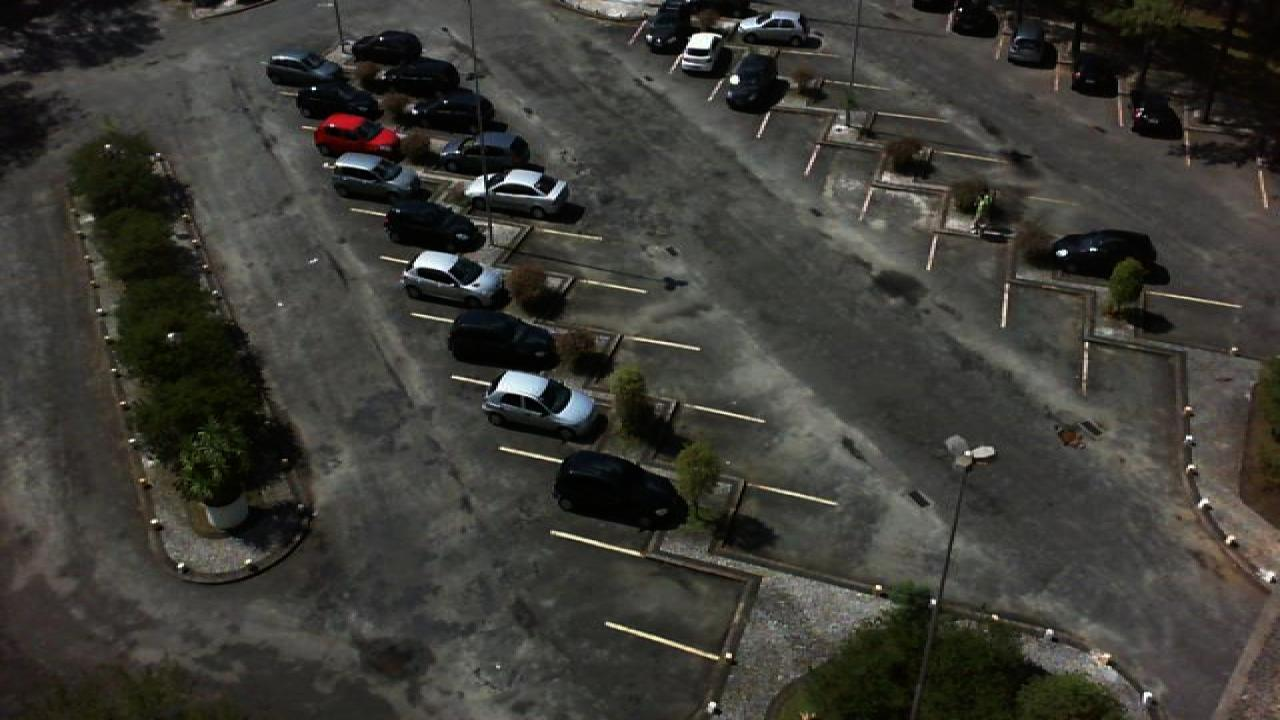Car: (552, 450, 688, 530), (480, 369, 604, 442), (446, 308, 556, 370), (400, 249, 510, 308), (1046, 229, 1166, 282), (464, 167, 580, 220), (384, 198, 484, 254), (330, 152, 424, 201), (312, 112, 404, 158), (400, 89, 494, 134), (436, 130, 528, 174), (726, 50, 786, 112), (374, 55, 460, 96), (734, 10, 820, 46), (294, 82, 378, 118), (264, 50, 348, 86), (350, 30, 424, 66), (1132, 90, 1184, 140), (642, 3, 692, 55), (674, 31, 730, 76), (1006, 17, 1056, 67), (1070, 49, 1116, 96), (950, 0, 996, 37)
